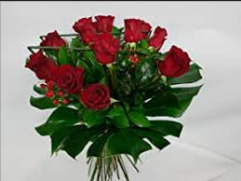RedRose: (159, 46, 198, 78), (89, 34, 125, 63), (52, 62, 82, 94), (83, 84, 115, 111), (38, 26, 67, 55), (69, 18, 95, 42), (25, 54, 50, 77), (123, 20, 149, 42), (148, 26, 167, 49), (91, 14, 115, 29)
